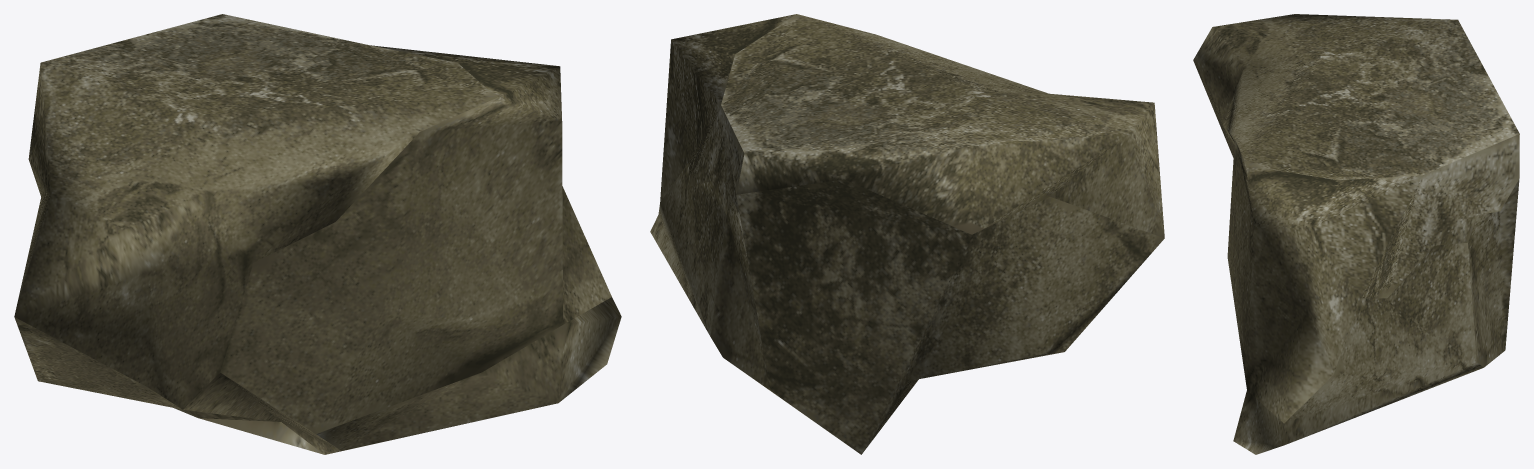
The model's file is SM_GLG_Rock_04_A.glb.
3 views of the same model, side by side, from view 1: azimuth 30°, elevation 25°; view 2: azimuth 150°, elevation 25°; view 3: azimuth 270°, elevation 25° (orthographic). The views are drawn at different scales.
Visible parts, largest first — view 1: SM_GLG_Rock_04_A; view 2: SM_GLG_Rock_04_A; view 3: SM_GLG_Rock_04_A.
Part boxes in pixels (bbox=[...]): SM_GLG_Rock_04_A: bbox=[14, 14, 621, 454]; SM_GLG_Rock_04_A: bbox=[650, 14, 1164, 454]; SM_GLG_Rock_04_A: bbox=[1193, 14, 1519, 454].
Bounding box in the file's own units: 1.98 × 1.17 × 1.14.
Materials: 1 (1 with a texture image).
